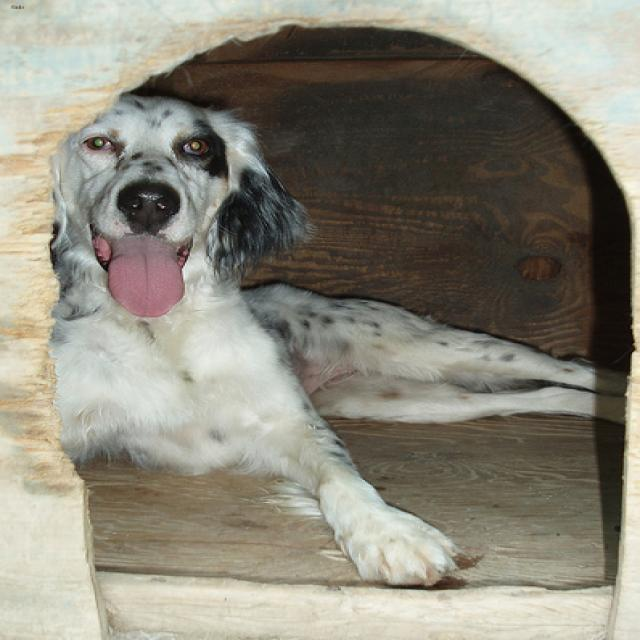dog-english_setter: (26, 84, 637, 599)
